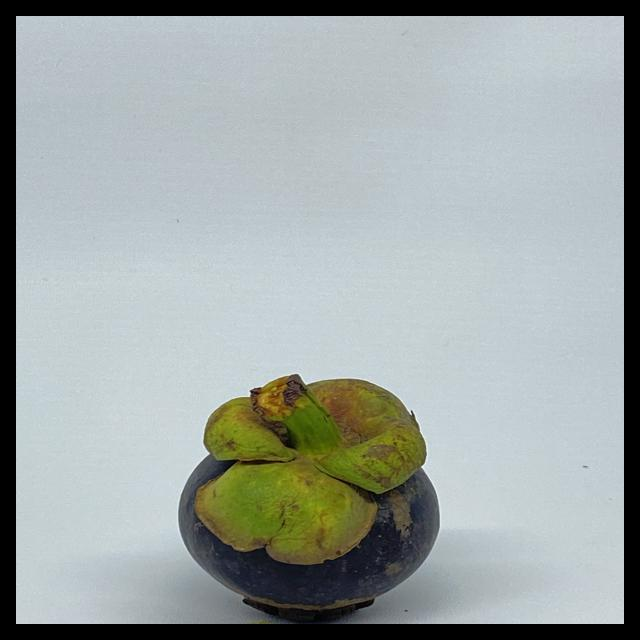mangosteen: (167, 335, 464, 623)
